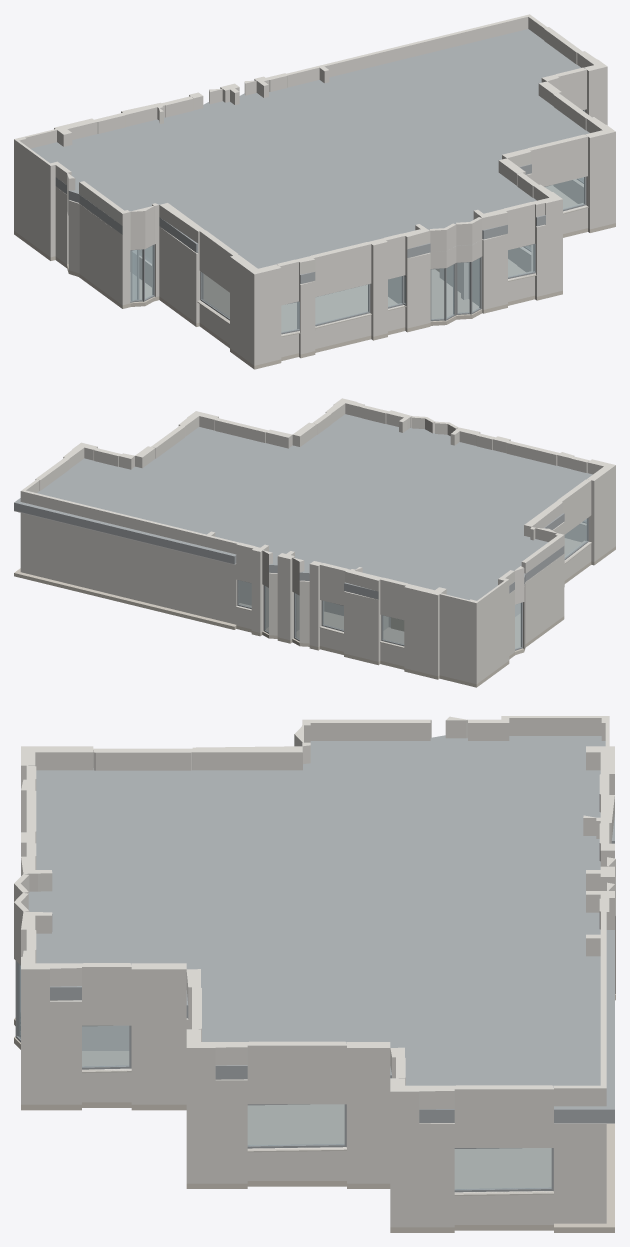
3 renders of one model, top to bottom at view 1: azimuth 30°, elevation 25°; view 2: azimuth 150°, elevation 25°; view 3: azimuth 270°, elevation 25°, orthographic. The views are drawn at different scales.
Parts seen in each view (by area): view 1: VIS_Roof_Flat_0, VIS_F1_Floor_0, VIS_F1_WestF, VIS_F1_WestA, VIS_F1_SouthE, VIS_F1_NorthA, VIS_F1_SouthO, VIS_F1_InternalAH, VIS_F1_WestE, VIS_F1_InternalT, VIS_F1_SouthP, VIS_F1_EastA (+35 smaller); view 2: VIS_Roof_Flat_0, VIS_F1_NorthA, VIS_F1_WestA, VIS_F1_Floor_0, VIS_F1_NorthJ, VIS_F1_InternalAH, VIS_F1_WestE, VIS_F1_WestF, VIS_F1_NorthH, VIS_F1_InternalAA, VIS_F1_NorthK, VIS_F1_NorthI (+23 smaller); view 3: VIS_Roof_Flat_0, VIS_F1_Floor_0, VIS_F1_EastC, VIS_F1_EastE, VIS_F1_EastB, VIS_F1_EastF, VIS_F1_EastD, VIS_F1_EastA, VIS_F1_WestE, VIS_F1_SouthN, VIS_F1_SouthP, VIS_F1_SouthR (+17 smaller).
Part boxes in pixels (x1,y1,x2,y2): VIS_Roof_Flat_0: (30, 29, 589, 283); VIS_F1_Floor_0: (14, 185, 615, 369); VIS_F1_WestF: (230, 254, 271, 365); VIS_F1_WestA: (14, 135, 59, 257); VIS_F1_SouthE: (311, 242, 371, 348); VIS_F1_NorthA: (286, 17, 519, 87); VIS_F1_SouthO: (502, 134, 587, 233); VIS_F1_InternalAH: (79, 204, 122, 304); VIS_F1_WestE: (159, 203, 238, 344); VIS_F1_InternalT: (159, 227, 198, 323); VIS_F1_SouthP: (585, 124, 615, 229); VIS_F1_EastA: (517, 172, 562, 294); VIS_Roof_Flat_0: (14, 414, 592, 600); VIS_F1_NorthA: (31, 492, 238, 624); VIS_F1_WestA: (461, 577, 509, 684); VIS_F1_Floor_0: (14, 538, 615, 687); VIS_F1_NorthJ: (404, 584, 446, 676); VIS_F1_InternalAH: (525, 554, 564, 643); VIS_F1_WestE: (524, 479, 591, 580); VIS_F1_WestF: (587, 461, 615, 561); VIS_F1_NorthH: (320, 563, 382, 661); VIS_F1_InternalAA: (344, 591, 378, 661); VIS_F1_NorthK: (439, 593, 462, 680); VIS_F1_NorthI: (380, 577, 407, 666); VIS_Roof_Flat_0: (28, 735, 614, 1122); VIS_F1_Floor_0: (14, 994, 615, 1232); VIS_F1_EastC: (215, 1041, 346, 1180); VIS_F1_EastE: (419, 1085, 553, 1224); VIS_F1_EastB: (131, 963, 186, 1104); VIS_F1_EastF: (554, 1079, 606, 1223); VIS_F1_EastD: (347, 1042, 390, 1183); VIS_F1_EastA: (21, 957, 131, 1102); VIS_F1_WestE: (93, 746, 302, 770); VIS_F1_SouthN: (21, 929, 50, 1104); VIS_F1_SouthP: (186, 1029, 215, 1183); VIS_F1_SouthR: (390, 1078, 419, 1227).
Bounding box in the file's own units: 21.48 × 3.76 × 14.54.
